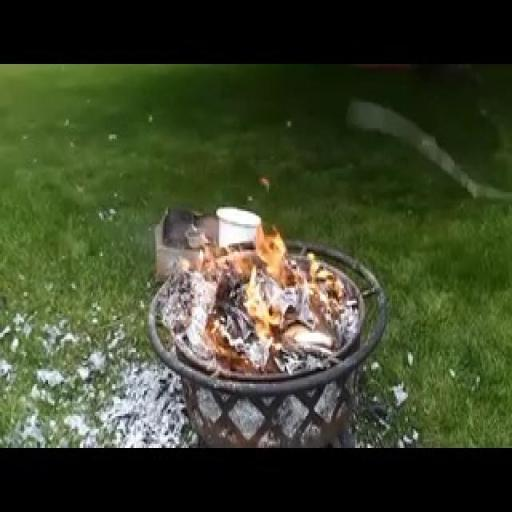smoke: (141, 146, 349, 378)
